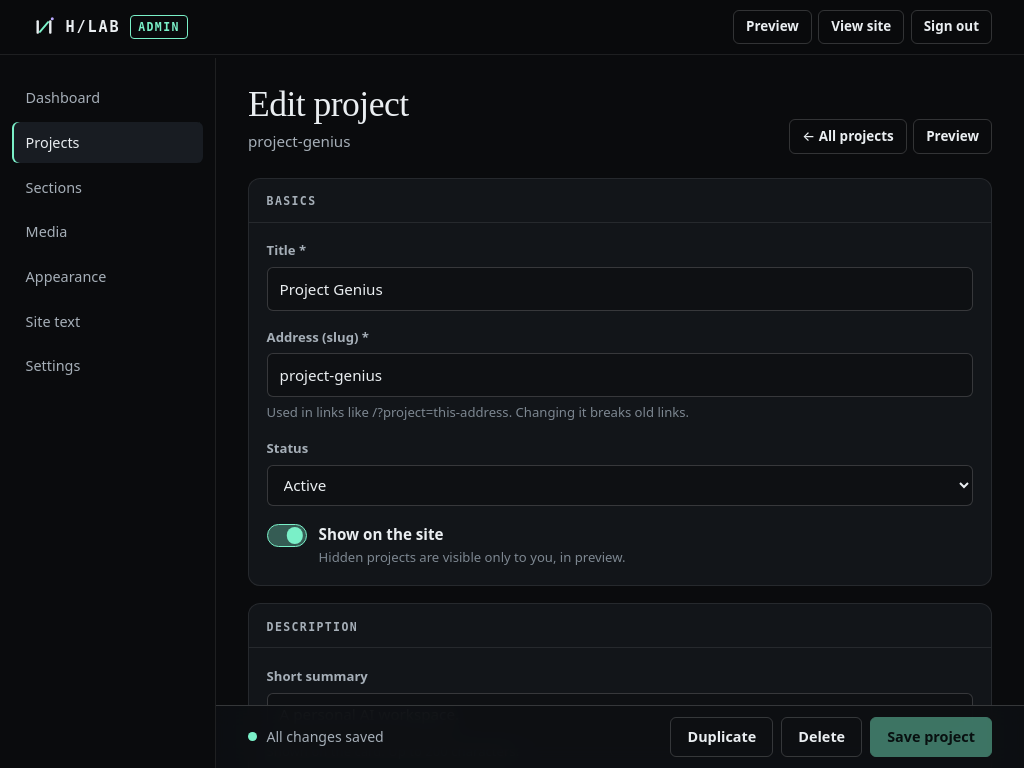
project editing › saves edits to the database and only then reports success
Expected: the message reads "All changes saved", [266,726,384,746]
Replace the text in the field labelled "Title *" with "Genius Reborn". click: coordinates (620, 289)
box: [267,267,973,311]
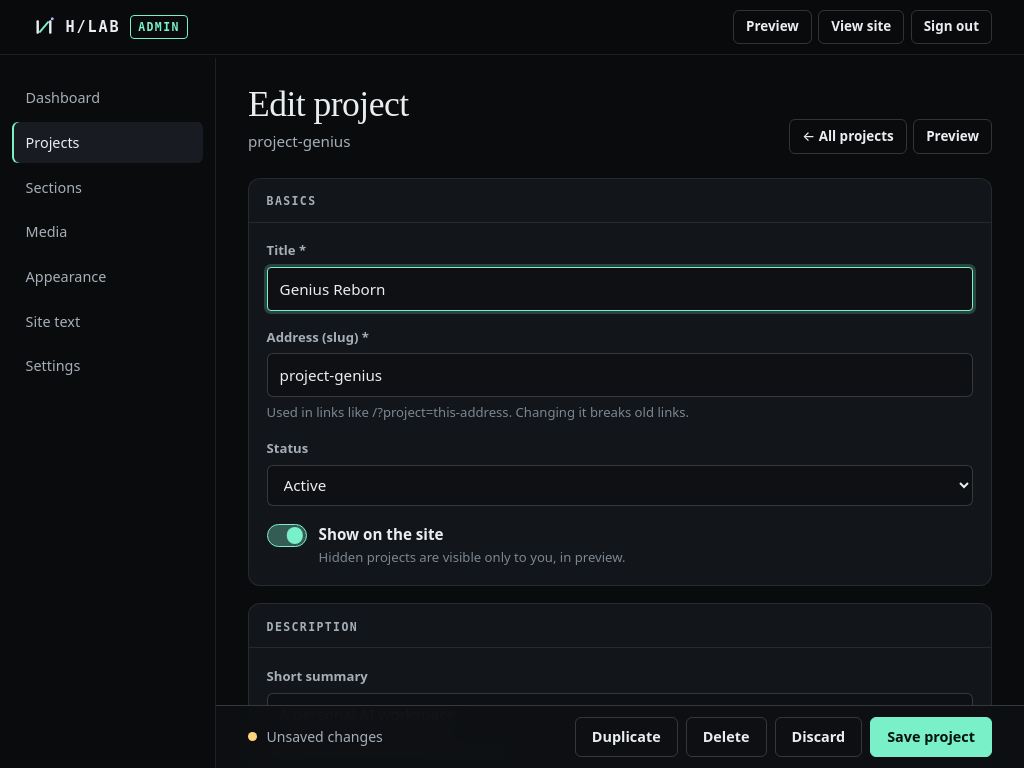
Click the button "Save project". click: coordinates (931, 737)
box: [870,717,992,757]
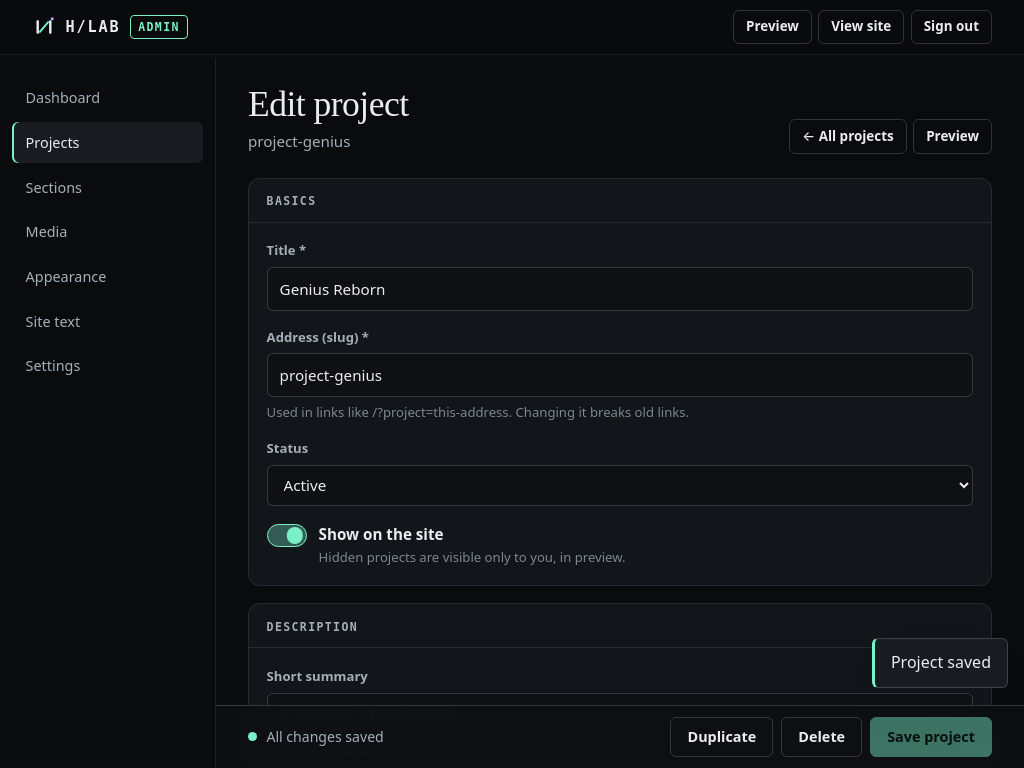
Now the text "Project saved" is shown, box [872,638,1008,688]
